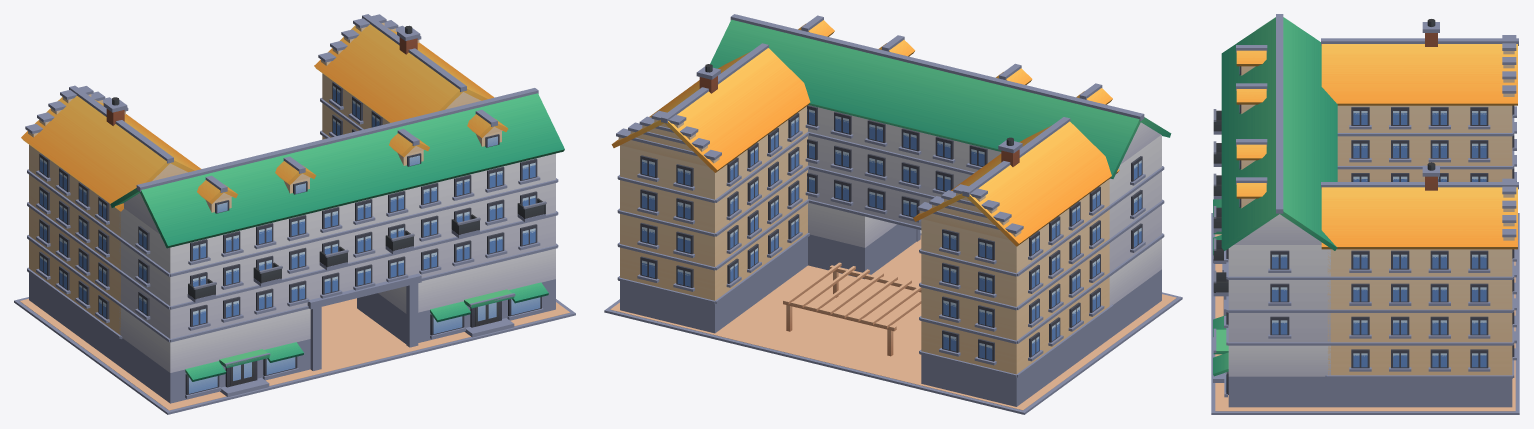
File: res_cloister_quarter_3x2.glb
3 views of the same model, side by side, from view 1: azimuth 30°, elevation 25°; view 2: azimuth 150°, elevation 25°; view 3: azimuth 270°, elevation 25° (orthographic). The views are drawn at different scales.
Visible parts, largest first — view 1: res_cloister_quarter_3x2; view 2: res_cloister_quarter_3x2; view 3: res_cloister_quarter_3x2.
Part boxes in pixels (left/top/right/bottom): res_cloister_quarter_3x2: left=14, top=14, right=575, bottom=414; res_cloister_quarter_3x2: left=604, top=14, right=1182, bottom=414; res_cloister_quarter_3x2: left=1211, top=14, right=1519, bottom=414.
Bounding box in the file's own units: 5.74 × 2.98 × 3.74.
Materials: 1 (1 with a texture image).
